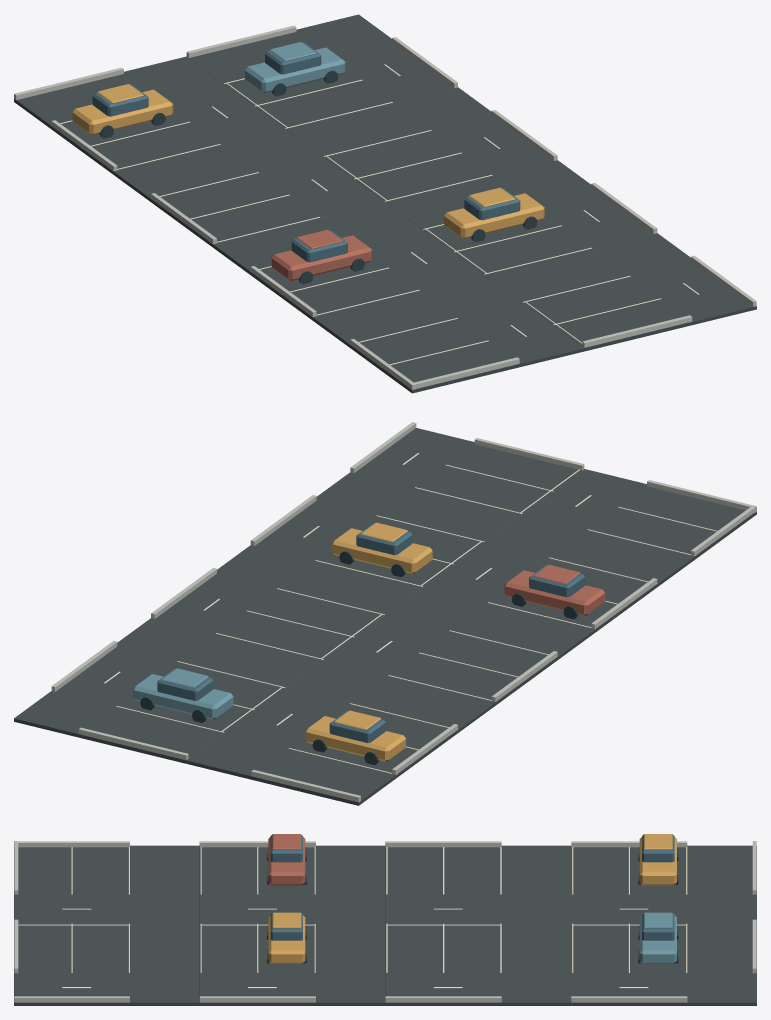
File: parking-large-4x8.glb
The picture shows the model from 3 angles, top to bottom: view 1: azimuth 30°, elevation 25°; view 2: azimuth 150°, elevation 25°; view 3: azimuth 270°, elevation 25°; orthographic projection. The views are drawn at different scales.
Visible parts, largest first — view 1: FacilityCombinedMesh; view 2: FacilityCombinedMesh; view 3: FacilityCombinedMesh.
Part boxes in pixels (bbox=[...]): FacilityCombinedMesh: bbox=[14, 14, 756, 393]; FacilityCombinedMesh: bbox=[14, 422, 756, 805]; FacilityCombinedMesh: bbox=[14, 834, 756, 1005].
Bounding box in the file's own units: 16 × 1.54 × 32.
